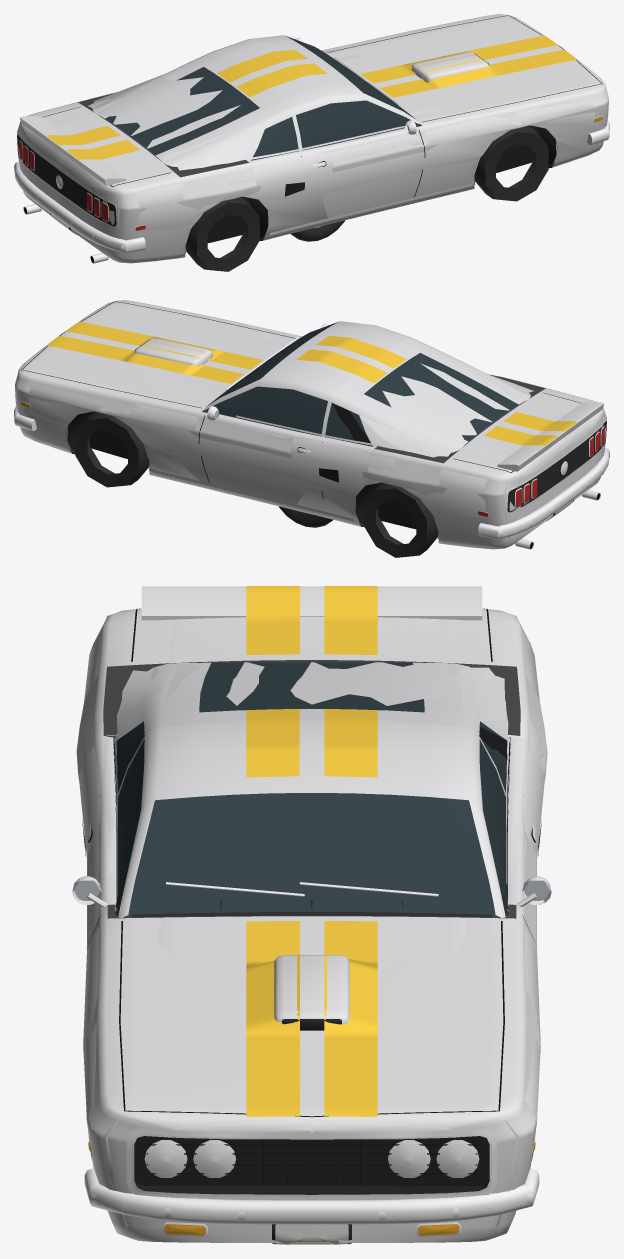
Rendered from muscle.glb.
3 renders of one model, top to bottom at view 1: azimuth 30°, elevation 25°; view 2: azimuth 150°, elevation 25°; view 3: azimuth 270°, elevation 25°, orthographic. The views are drawn at different scales.
Visible parts, largest first — view 1: muscle, muscle_lo, muscle_wf; view 2: muscle, muscle_lo, muscle_wf; view 3: muscle, muscle_lo.
Part boxes in pixels (bbox=[...]): muscle: bbox=[14, 14, 609, 263]; muscle_lo: bbox=[14, 25, 609, 271]; muscle_wf: bbox=[290, 220, 344, 241]; muscle: bbox=[14, 300, 609, 549]; muscle_lo: bbox=[14, 303, 609, 557]; muscle_wf: bbox=[279, 506, 333, 527]; muscle: bbox=[72, 586, 551, 1244]; muscle_lo: bbox=[72, 614, 551, 1244].
Size of the model in its own units: 4.92 by 1.64 by 1.97.
